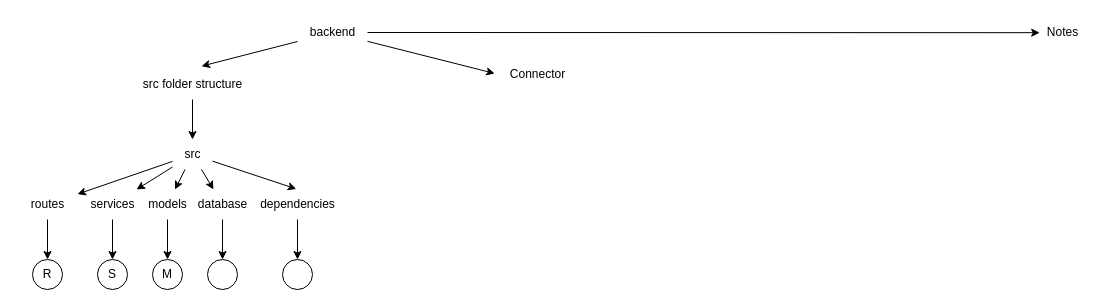
Image size: 1104x307. Some labels were removed from this diagram. Here are the shapes that lost their labels. From the top down, the centre of each, then its label:
(x=222, y=274): DB
(x=297, y=274): DP
